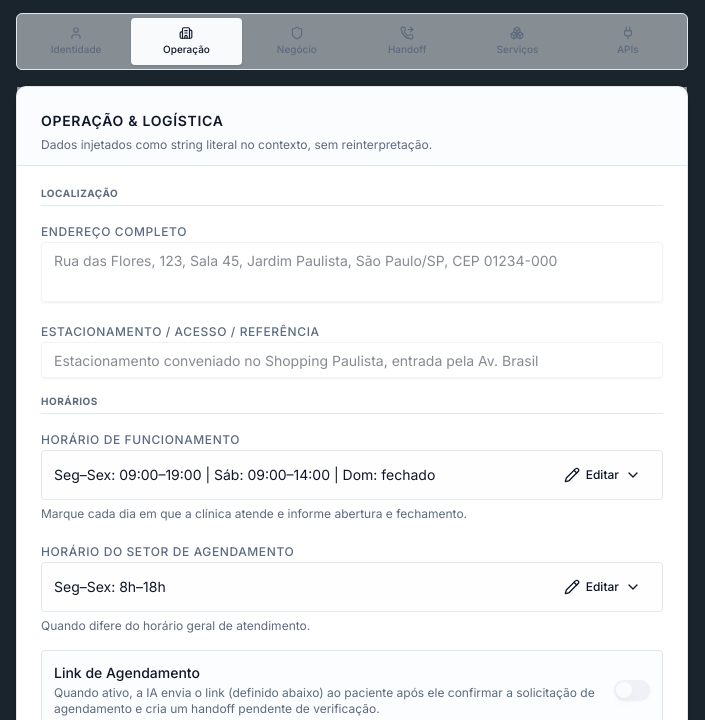
Test: <ClinicConfig /> operations tab — business-hours UI surface › renders both hours fields as compact summaries with on-demand editors
Expected: the text with test id "business-hours-editor-summary" reads "Seg–Sex: 09:00–19:00 | Sáb: 09:00–14:00 | Dom: fechado", [54,466,435,483]
Click the button with test id "business-hours-editor-toggle" at (602, 475), box [555,459,650,491]
(page scrolled)
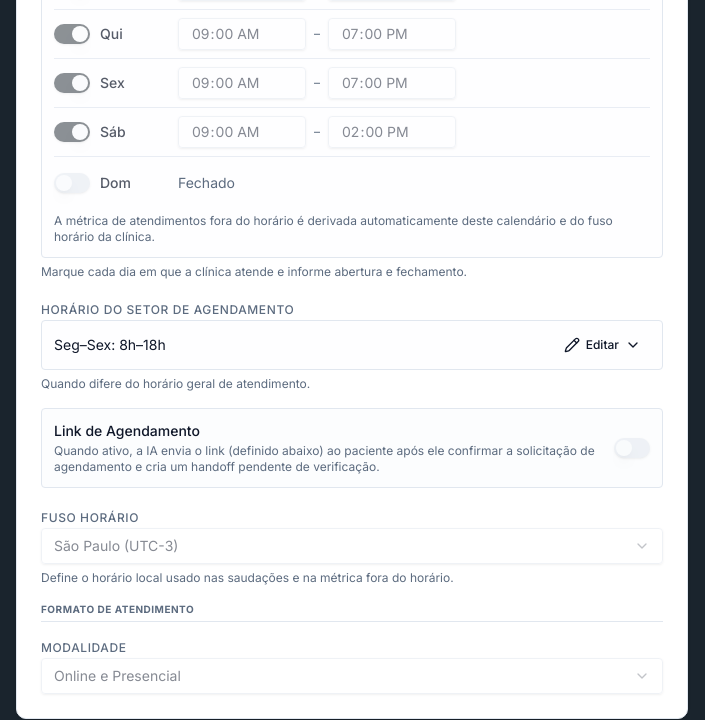
Expected: the text with test id "scheduling-hours-editor-summary" reads "Seg–Sex: 8h–18h", [54,336,166,353]
Expected: the text with test id "business-hours-metric-note" is shown, [54,213,650,245]
Click the button with test id "scheduling-hours-editor-toggle" at (602, 345), box [555,329,650,361]
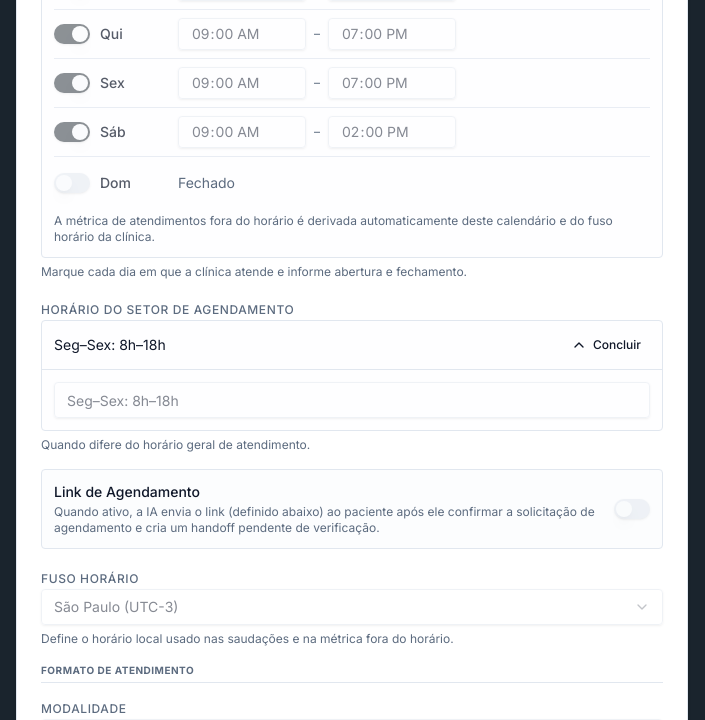
Expected: the field named "Horário do Setor de Agendamento" holds "Seg–Sex: 8h–18h", [54,382,650,418]
